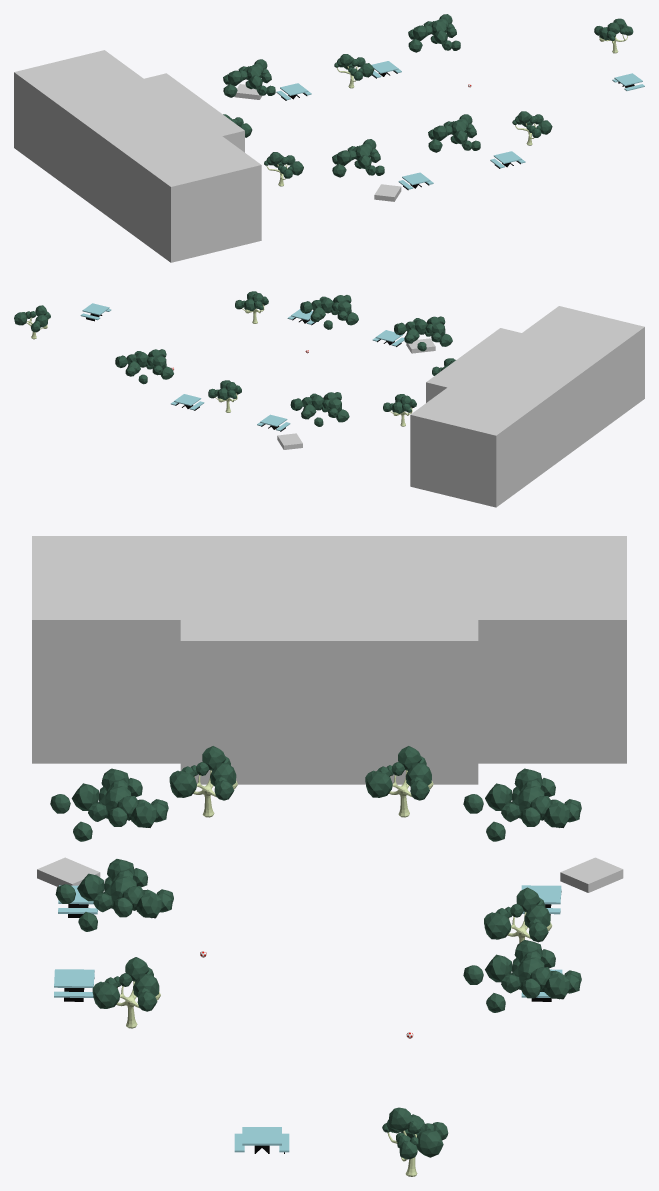
File: StadV4.glb
3 views of the same model, one above another, from view 1: azimuth 30°, elevation 25°; view 2: azimuth 150°, elevation 25°; view 3: azimuth 270°, elevation 25° (orthographic). The views are drawn at different scales.
Visible parts, largest first — view 1: Plain.005, Leaves.007, Leaves.001, Leaves.003, Leaves.004, Leaves.006, Leaves.002, Leaves.005, Leaves, Plain.003; view 2: Plain.005, Leaves.003, Leaves.007, Leaves.004, Leaves.001, Leaves, Leaves.008, Leaves.005, Leaves.002, Plain.004; view 3: Plain.005, Leaves.003, Leaves.004, Leaves.001, Leaves.007, Leaves, Leaves.002, Leaves.005, Leaves.006, Leaves.008, Plain.004, Plain.003.
Boxes of the visible parts, x1=… form: Plain.005: x1=14, y1=50, x2=261, y2=262; Leaves.007: x1=332, y1=139, x2=384, y2=177; Leaves.001: x1=428, y1=114, x2=480, y2=152; Leaves.003: x1=408, y1=14, x2=460, y2=52; Leaves.004: x1=223, y1=59, x2=275, y2=97; Leaves.006: x1=264, y1=152, x2=303, y2=178; Leaves.002: x1=512, y1=111, x2=552, y2=137; Leaves.005: x1=334, y1=54, x2=374, y2=80; Leaves: x1=594, y1=18, x2=633, y2=40; Plain.003: x1=374, y1=184, x2=401, y2=201; Plain.005: x1=410, y1=306, x2=644, y2=507; Leaves.003: x1=115, y1=349, x2=173, y2=384; Leaves.007: x1=394, y1=316, x2=452, y2=351; Leaves.004: x1=290, y1=392, x2=349, y2=426; Leaves.001: x1=300, y1=295, x2=358, y2=329; Leaves: x1=14, y1=305, x2=50, y2=332; Leaves.008: x1=383, y1=394, x2=416, y2=413; Leaves.005: x1=208, y1=380, x2=241, y2=400; Leaves.002: x1=235, y1=291, x2=268, y2=311; Plain.004: x1=277, y1=433, x2=302, y2=449; Plain.005: x1=32, y1=536, x2=626, y2=784; Leaves.003: x1=463, y1=939, x2=581, y2=1012; Leaves.004: x1=463, y1=768, x2=581, y2=841; Leaves.001: x1=55, y1=859, x2=173, y2=931; Leaves.007: x1=50, y1=768, x2=168, y2=841; Leaves: x1=382, y1=1107, x2=448, y2=1159; Leaves.002: x1=92, y1=957, x2=159, y2=1011; Leaves.005: x1=484, y1=887, x2=550, y2=942; Leaves.006: x1=169, y1=746, x2=236, y2=800; Leaves.008: x1=365, y1=746, x2=431, y2=800; Plain.004: x1=560, y1=857, x2=623, y2=892; Plain.003: x1=37, y1=857, x2=100, y2=886.
Bounding box in the file's own units: 124 × 16 × 59.99.
